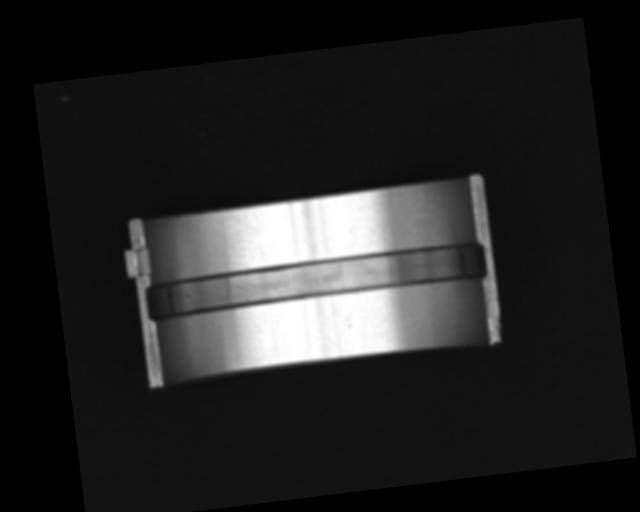gap: (141, 240, 490, 321)
